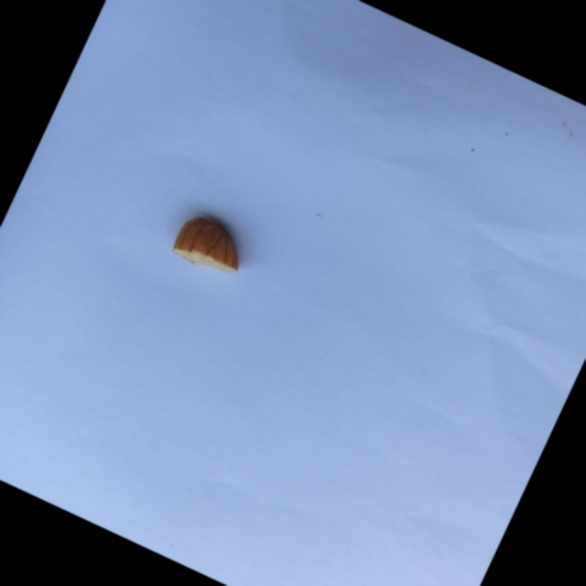grade4: (162, 201, 262, 288)
